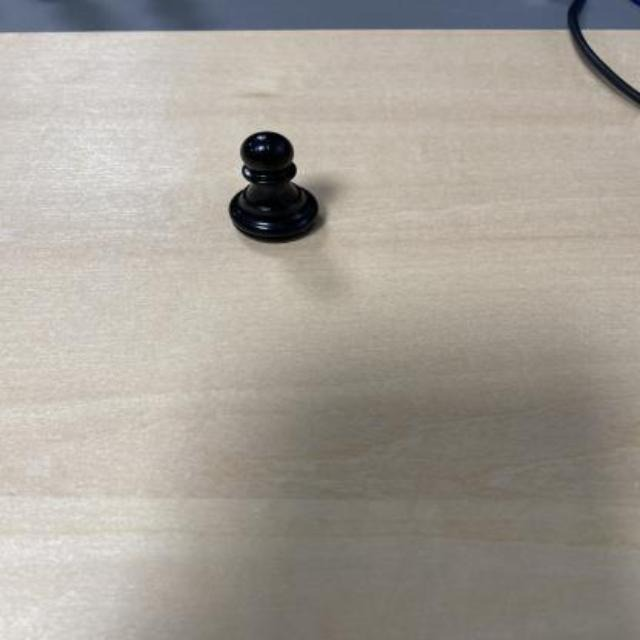black-pawn: (230, 133, 323, 245)
